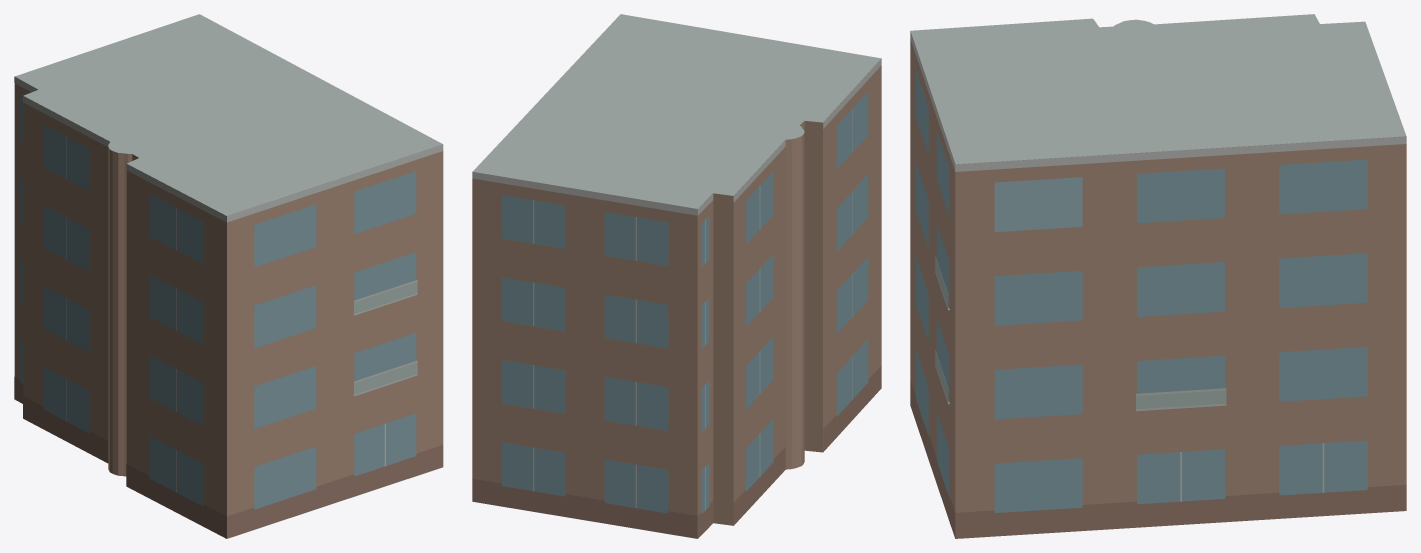
File: survey-upis-32763470.glb
3 renders of one model, left to right at view 1: azimuth 30°, elevation 25°; view 2: azimuth 150°, elevation 25°; view 3: azimuth 270°, elevation 25°, orthographic. The views are drawn at different scales.
Parts seen in each view (by area): view 1: survey-upis-32763470.tmp; view 2: survey-upis-32763470.tmp; view 3: survey-upis-32763470.tmp.
Boxes of the visible parts, <box> form: survey-upis-32763470.tmp: <box>14,14,443,538</box>; survey-upis-32763470.tmp: <box>472,14,881,538</box>; survey-upis-32763470.tmp: <box>910,14,1406,538</box>.
Bounding box in the file's own units: 10.29 × 11.95 × 14.36.
